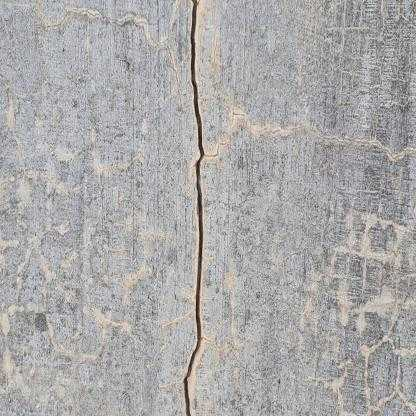crack: (182, 3, 205, 411)
